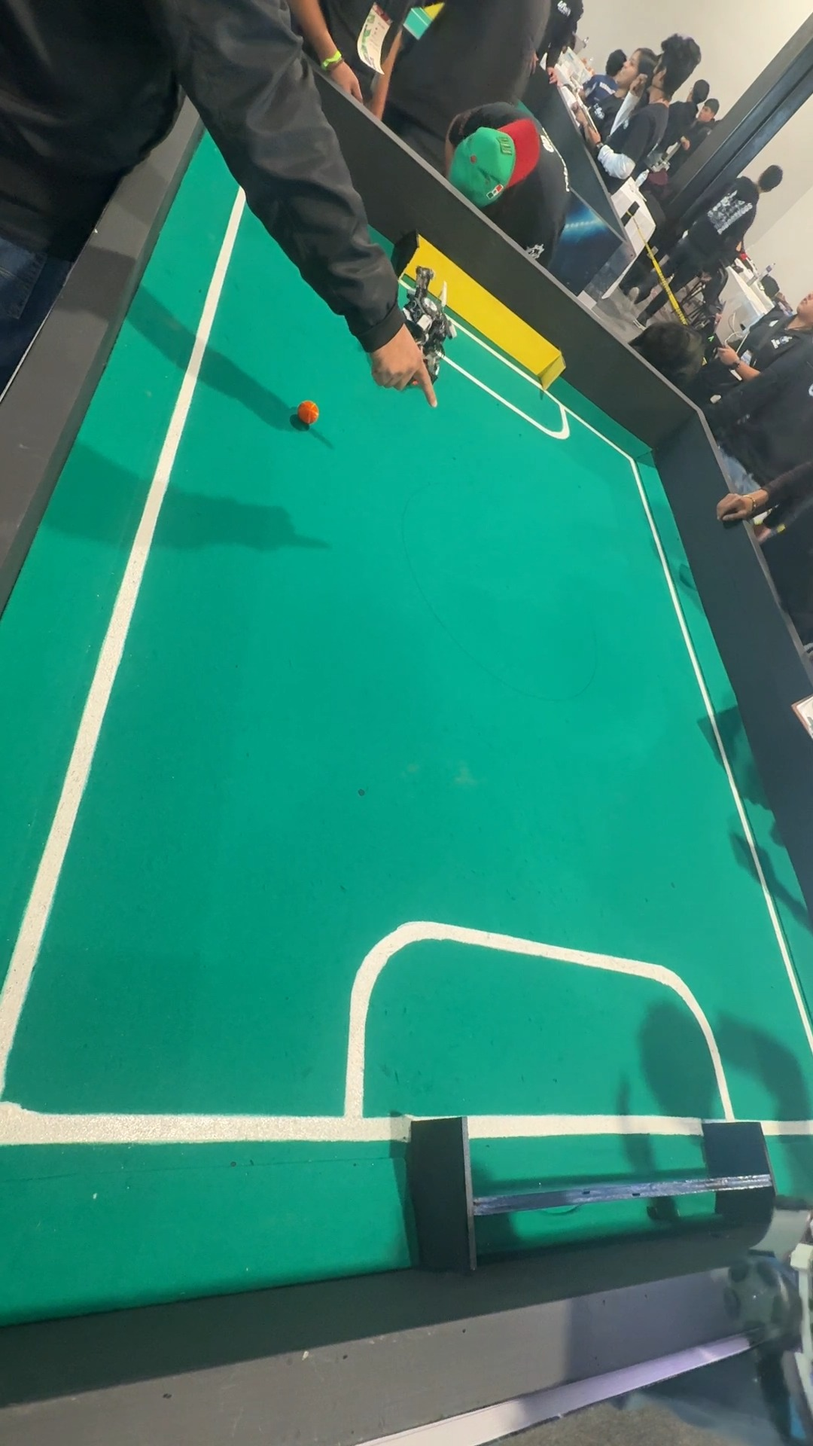Robot: (398, 241, 462, 397)
pelota: (300, 399, 320, 425)
